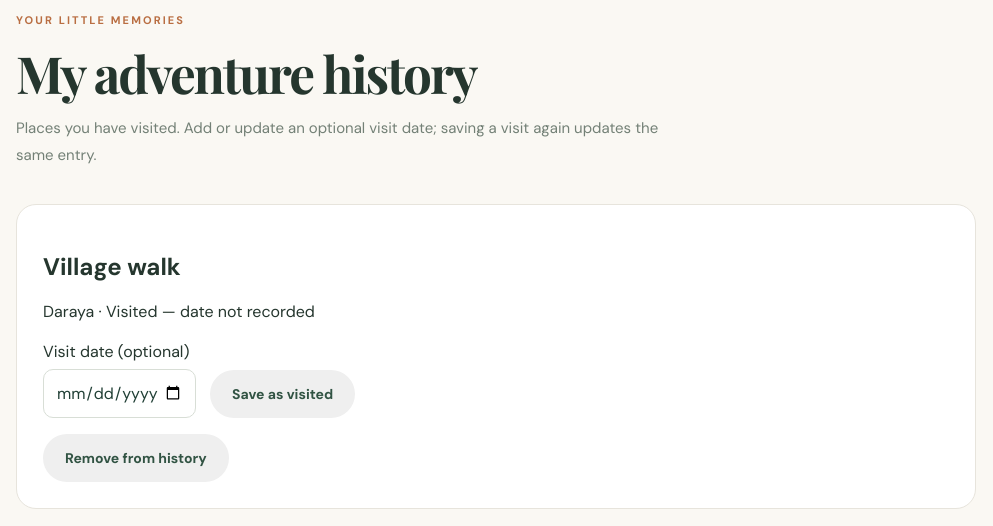
Test case: history supports an existing undated visit, date editing and removal
Expected: the text "Daraya · Visited — date not recorded" is shown, [43,301,315,322]
Type "2026-01-01" into the date field labelled "Visit date (optional)". click: (120, 394)
box: [43,369,196,418]
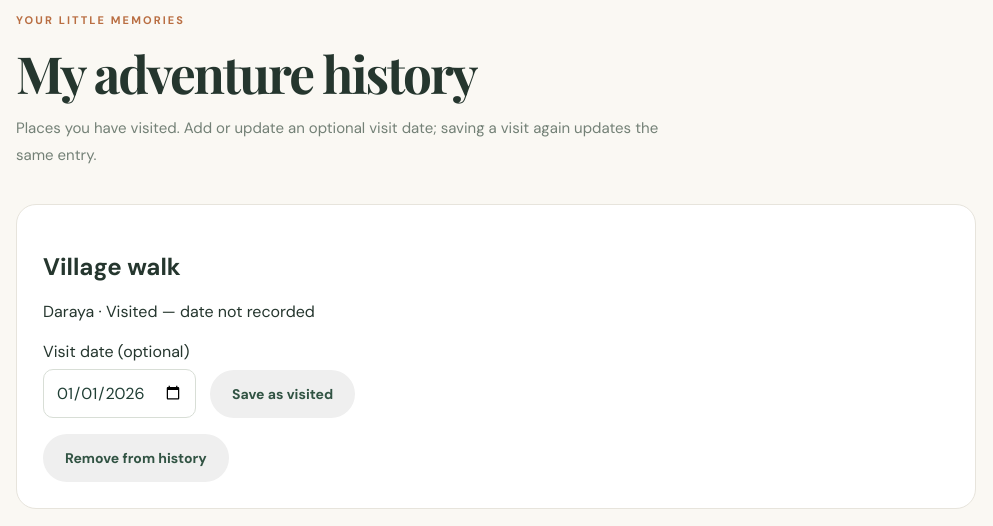
Click the button "Save as visited". click: click(283, 394)
box: [210,370,355,418]
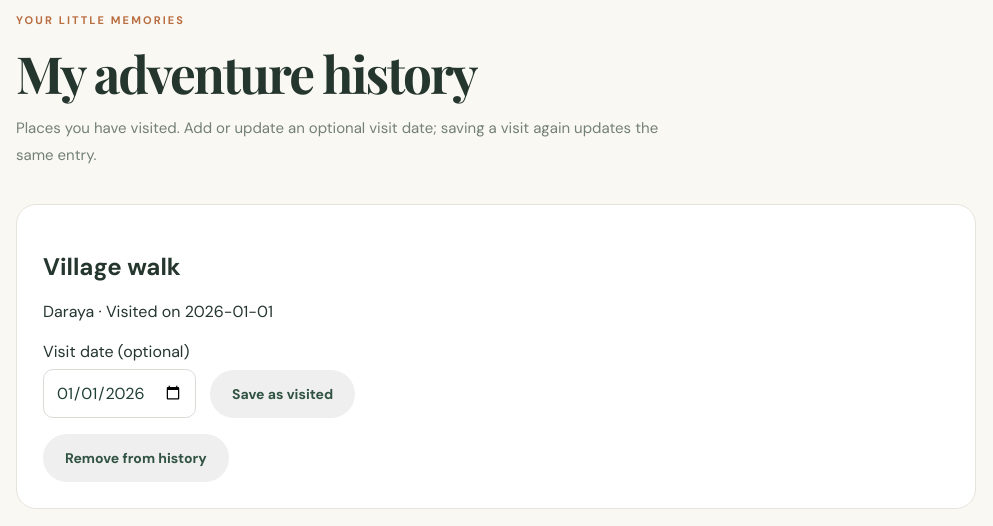
Expected: the text "Daraya · Visited on 2026-01-01" is shown, [43,301,273,322]
Click the button "Remove from history". click: click(136, 458)
box: [43,434,229,482]
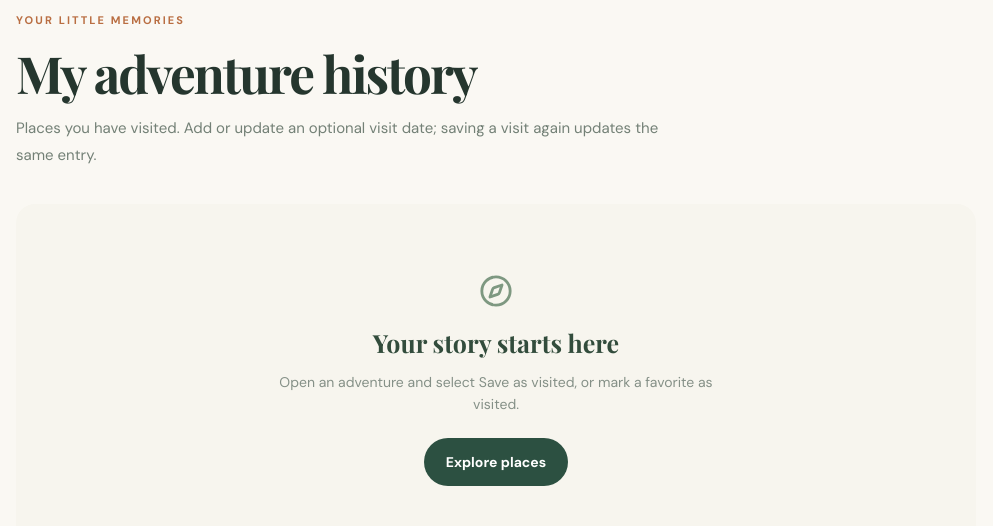
Expected: the heading "Your story starts here" is shown, [373,326,619,359]
